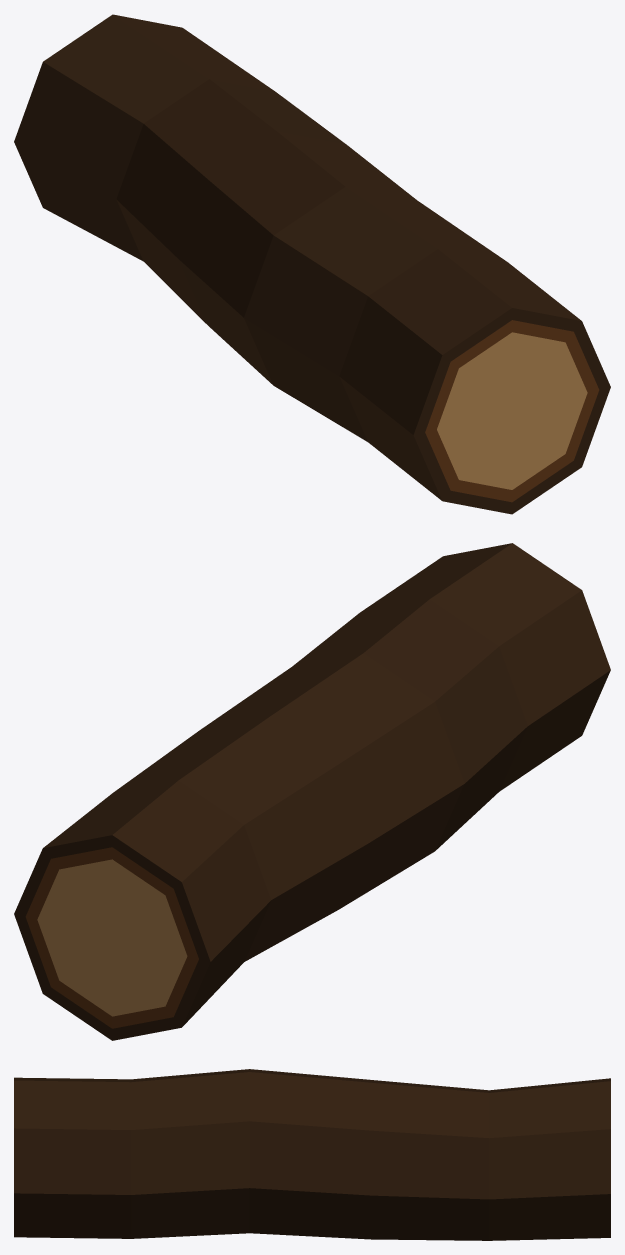
The model's file is Log.fbx.
3 views of the same model, one above another, from view 1: azimuth 30°, elevation 25°; view 2: azimuth 150°, elevation 25°; view 3: azimuth 270°, elevation 25° (orthographic). The views are drawn at different scales.
Visible parts, largest first — view 1: Cylinder; view 2: Cylinder; view 3: Cylinder.
Boxes of the visible parts, box(x1,y1,x2,y2) form: Cylinder: box(14, 14, 610, 514); Cylinder: box(14, 543, 610, 1040); Cylinder: box(14, 1069, 610, 1240).
Size of the model in its own units: 222 by 208 by 703.
